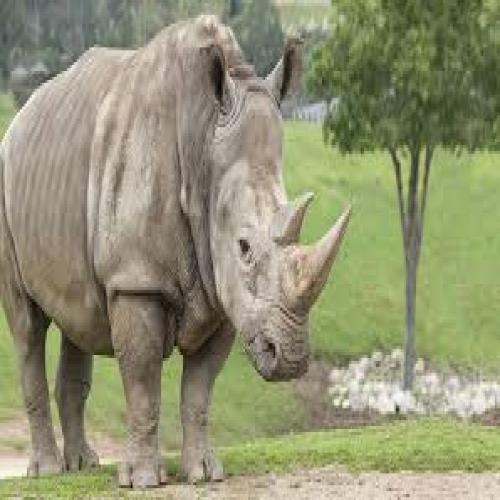rhino-endangered: (0, 22, 340, 482)
